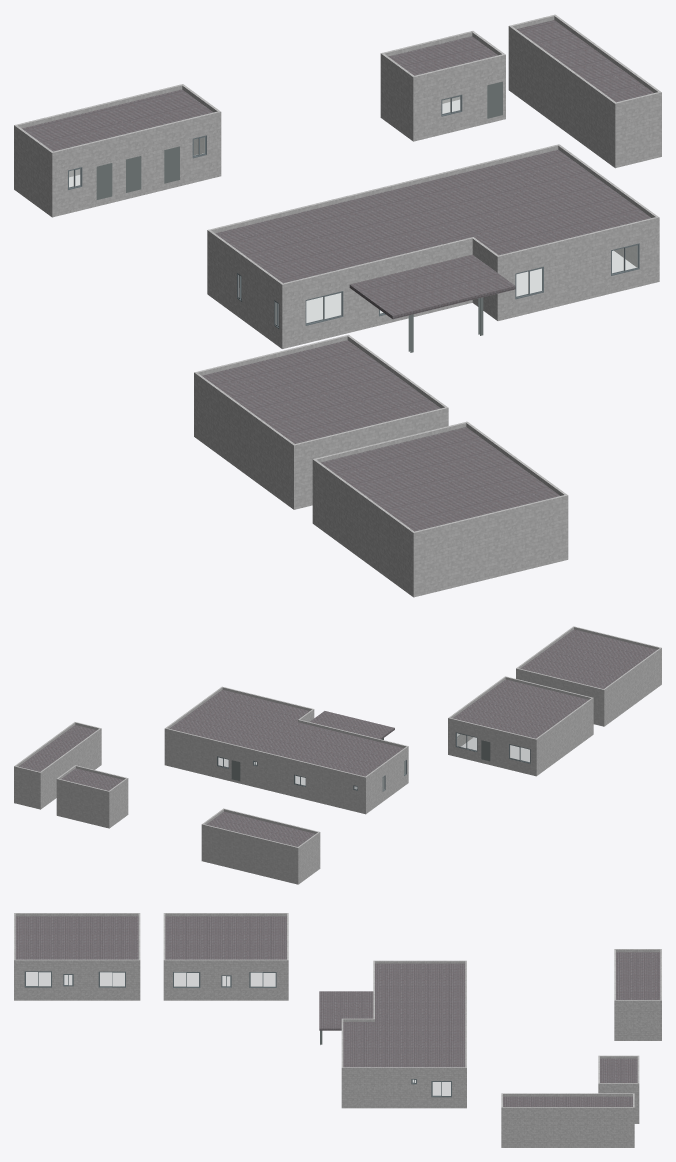
Rendered from Plan(REF)_levels(1)_window(REF)_wall(Masonry - Structural)_quoin(N)_cornice(N).fbx.
The picture shows the model from 3 angles, top to bottom: view 1: azimuth 30°, elevation 25°; view 2: azimuth 150°, elevation 25°; view 3: azimuth 270°, elevation 25°; orthographic projection. The views are drawn at different scales.
Visible parts, largest first — view 1: Masonry - Structural, Shingle - Roofing - Designer Grade, Glass - Clear, Metal - Finish - Painted Steel, Metal - Finish - Aluminum; view 2: Masonry - Structural, Shingle - Roofing - Designer Grade, Glass - Clear, Metal - Finish - Aluminum, Metal - Finish - Painted Steel; view 3: Shingle - Roofing - Designer Grade, Masonry - Structural, Glass - Clear, Metal - Finish - Aluminum.
Part boxes in pixels (x1,y1,x2,y2): Masonry - Structural: [14, 14, 661, 597]; Shingle - Roofing - Designer Grade: [22, 20, 653, 531]; Glass - Clear: [69, 97, 637, 324]; Metal - Finish - Painted Steel: [96, 81, 502, 199]; Metal - Finish - Aluminum: [68, 94, 639, 328]; Masonry - Structural: [14, 626, 661, 884]; Shingle - Roofing - Designer Grade: [19, 629, 656, 846]; Glass - Clear: [218, 733, 529, 789]; Metal - Finish - Aluminum: [217, 732, 530, 791]; Metal - Finish - Painted Steel: [231, 734, 490, 781]; Shingle - Roofing - Designer Grade: [15, 916, 660, 1106]; Masonry - Structural: [14, 913, 661, 1147]; Glass - Clear: [26, 972, 450, 1095]; Metal - Finish - Aluminum: [24, 971, 451, 1097].
Bounding box in the file's own units: 4148 × 5833 × 400.
9 materials, 3 textured.
